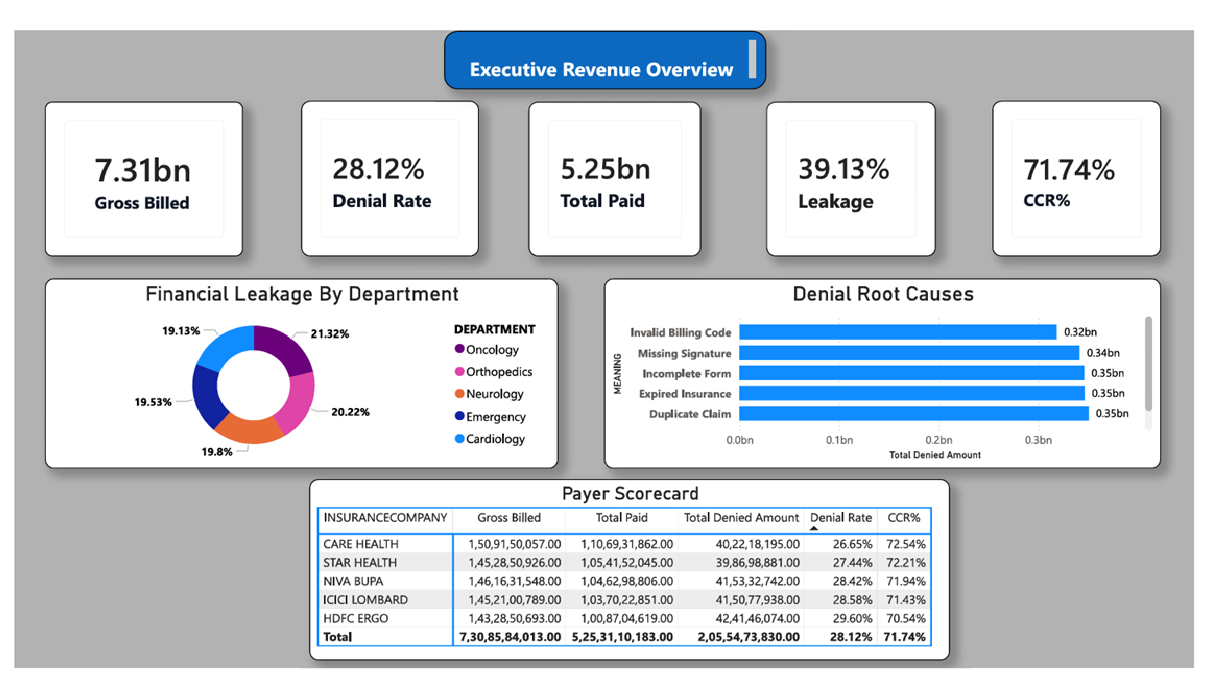

The page's visual inventory and layout, read from the dashboard file:
{"tool":"powerbi","page":{"name":"Executive Revenue Overview","canvas":[1280,720],"ordinal":0},"visuals":[{"type":"cardVisual","fields":{"Data":["BILLING.Total Billed Amount"]},"box":[32.5,80,215,175],"z":0},{"type":"cardVisual","fields":{"Data":["BILLING.Denial Rate %"]},"box":[311.2,78.8,192.5,176.2],"z":1000},{"type":"cardVisual","fields":{"Data":["BILLING.Total Paid"]},"box":[557.5,80,187.5,175],"z":2000},{"type":"cardVisual","fields":{"Data":["BILLING.Financial Leakage Index"]},"box":[816.2,80,183.8,175],"z":3000},{"type":"cardVisual","fields":{"Data":["BILLING.Clean Claim Rate %"]},"box":[1061.2,78.8,182.5,176.2],"z":4000},{"type":"textbox","box":[465.7,0,350,65.7],"z":5000},{"type":"donutChart","title":"Financial Leakage By Department ","fields":{"Category":["CLINICAL.DEPARTMENT"],"Y":["BILLING.Total Denied Amount"]},"box":[32.5,280,557.5,213.8],"z":6000},{"type":"clusteredBarChart","title":"Denial Root Causes","fields":{"Category":["DENIAL_REASON_LOOKUP.MEANING"],"Y":["BILLING.Total Denied Amount"]},"box":[640,280,603.8,213.8],"z":7000},{"type":"pivotTable","title":"Payer Scorecard","fields":{"Rows":["INSURANCE.INSURANCECOMPANY"],"Values":["BILLING.Gross Billed","BILLING.Total Paid","BILLING.Total Denied Amount","BILLING.Denial Rate","BILLING.CCR%"]},"box":[320,506.2,695,205],"z":8000}]}

Visuals, with their boxes in screenshot pixels (x1, y1, x2, y2), scaled from the page's 1280x720 canvas onto the 1219x686 screenshot:
cardVisual - BILLING.Total Billed Amount: box=[31, 76, 236, 243]
cardVisual - BILLING.Denial Rate %: box=[296, 75, 480, 243]
cardVisual - BILLING.Total Paid: box=[531, 76, 709, 243]
cardVisual - BILLING.Financial Leakage Index: box=[777, 76, 952, 243]
cardVisual - BILLING.Clean Claim Rate %: box=[1011, 75, 1184, 243]
textbox: box=[444, 0, 777, 63]
"Financial Leakage By Department " donutChart: box=[31, 267, 562, 470]
"Denial Root Causes" clusteredBarChart: box=[610, 267, 1185, 470]
"Payer Scorecard" pivotTable: box=[305, 482, 967, 678]
